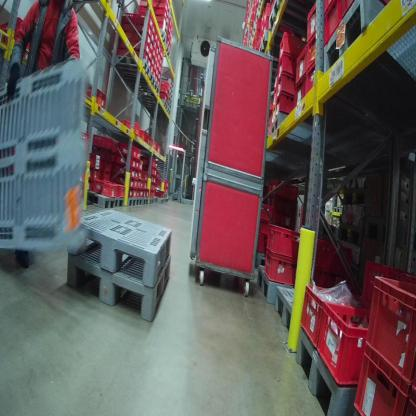pallet: (1, 54, 89, 257), (321, 1, 414, 152), (67, 236, 176, 322), (68, 197, 172, 287), (295, 326, 358, 414), (269, 113, 328, 161), (272, 286, 313, 332), (270, 1, 314, 42), (256, 264, 287, 306), (109, 54, 151, 77), (116, 71, 155, 91), (83, 188, 115, 212), (258, 30, 280, 60), (140, 96, 167, 111), (133, 84, 161, 97), (253, 251, 265, 269), (150, 107, 171, 117), (161, 75, 174, 91), (114, 195, 126, 208), (156, 28, 166, 43), (126, 195, 137, 208), (135, 195, 143, 208), (165, 43, 171, 57), (143, 195, 149, 208), (149, 196, 155, 208), (155, 195, 161, 205), (169, 91, 174, 101), (159, 197, 165, 205), (164, 192, 169, 199), (168, 101, 171, 110), (169, 97, 172, 106), (170, 86, 173, 94), (166, 199, 170, 204)
small_load_carrier: (367, 270, 415, 385), (316, 297, 372, 387), (352, 341, 410, 415), (300, 282, 354, 353), (265, 225, 319, 268), (261, 249, 308, 288), (314, 235, 351, 278), (3, 15, 39, 59), (323, 0, 341, 42), (81, 82, 105, 112), (278, 34, 302, 64), (304, 26, 321, 67), (92, 174, 125, 195), (86, 141, 115, 164), (291, 74, 308, 113), (278, 51, 299, 82), (303, 59, 319, 99), (276, 70, 295, 102), (294, 43, 309, 83), (304, 2, 319, 40), (116, 115, 141, 136), (276, 89, 294, 118), (115, 143, 137, 161), (91, 135, 113, 152), (255, 236, 273, 256), (257, 201, 274, 221), (114, 154, 137, 167), (114, 165, 135, 179), (137, 14, 155, 30), (131, 40, 150, 55), (132, 30, 151, 45), (87, 148, 101, 168), (407, 380, 415, 414), (135, 24, 153, 38), (272, 60, 280, 90), (152, 2, 170, 14), (120, 11, 136, 24), (258, 219, 272, 233), (151, 8, 166, 21), (111, 40, 131, 49), (119, 29, 132, 42), (89, 167, 102, 180), (101, 158, 113, 172), (272, 80, 278, 107), (261, 16, 271, 32), (144, 133, 154, 149), (143, 156, 155, 169), (111, 49, 130, 57), (262, 3, 271, 18), (154, 15, 165, 27), (140, 127, 147, 145), (120, 22, 133, 31), (139, 7, 152, 16), (272, 104, 277, 127), (157, 19, 165, 32), (102, 169, 112, 179), (139, 0, 153, 7), (133, 176, 140, 188), (148, 39, 154, 53), (129, 176, 135, 189), (134, 158, 140, 171), (154, 142, 160, 155), (133, 168, 140, 179), (148, 46, 153, 58), (143, 171, 148, 181), (133, 185, 138, 195), (139, 161, 144, 170), (137, 148, 141, 159), (129, 189, 134, 197)
